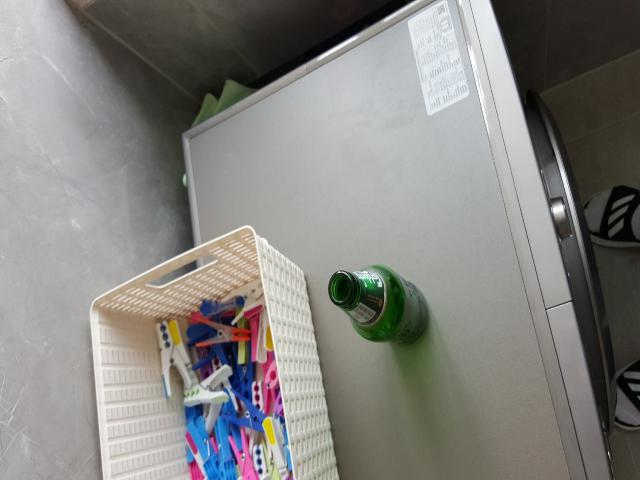beer: (329, 269, 430, 344)
